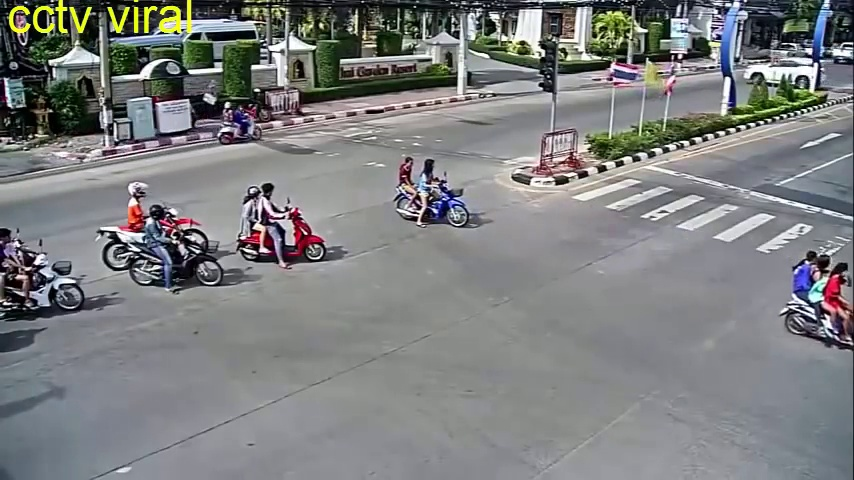car: (742, 53, 825, 93)
motorbike: (97, 177, 209, 268), (782, 248, 854, 352), (1, 227, 84, 315), (125, 214, 223, 287), (237, 187, 329, 262), (395, 154, 468, 229), (219, 100, 260, 146)
